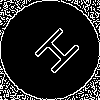H: (25, 25, 83, 83)
